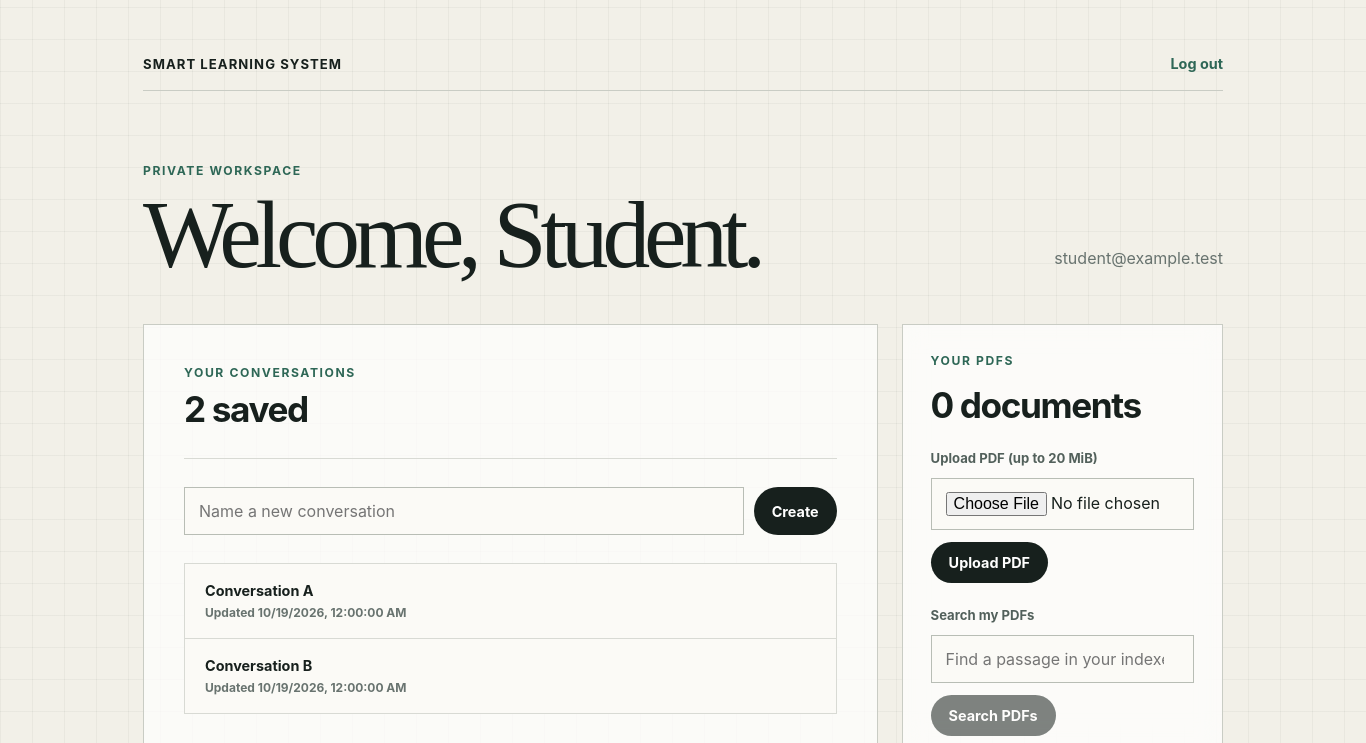
Test case: a terminal model failure keeps the saved question out of the composer
The width and height of the screenshot is (1366, 743).
Click the button "Conversation A Updated 10/19/2026, 12:00:00 AM".
click(259, 591)  # box x1=185 y1=564 x2=836 y2=638
(page scrolled)
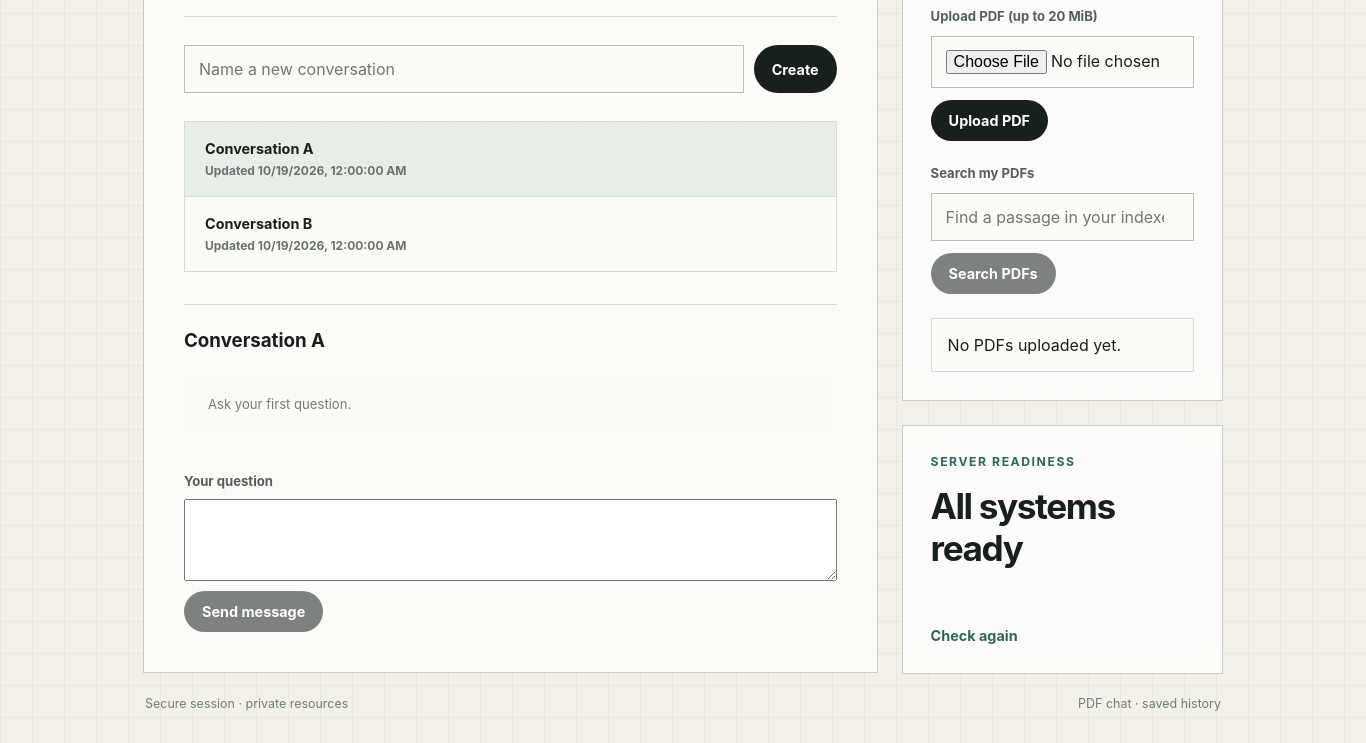
Now the heading "Conversation A" is shown, box x1=184 y1=329 x2=325 y2=352
Type "Saved question" into the text box labelled "Your question".
click(510, 540); type("Saved question")  # box x1=184 y1=499 x2=837 y2=581
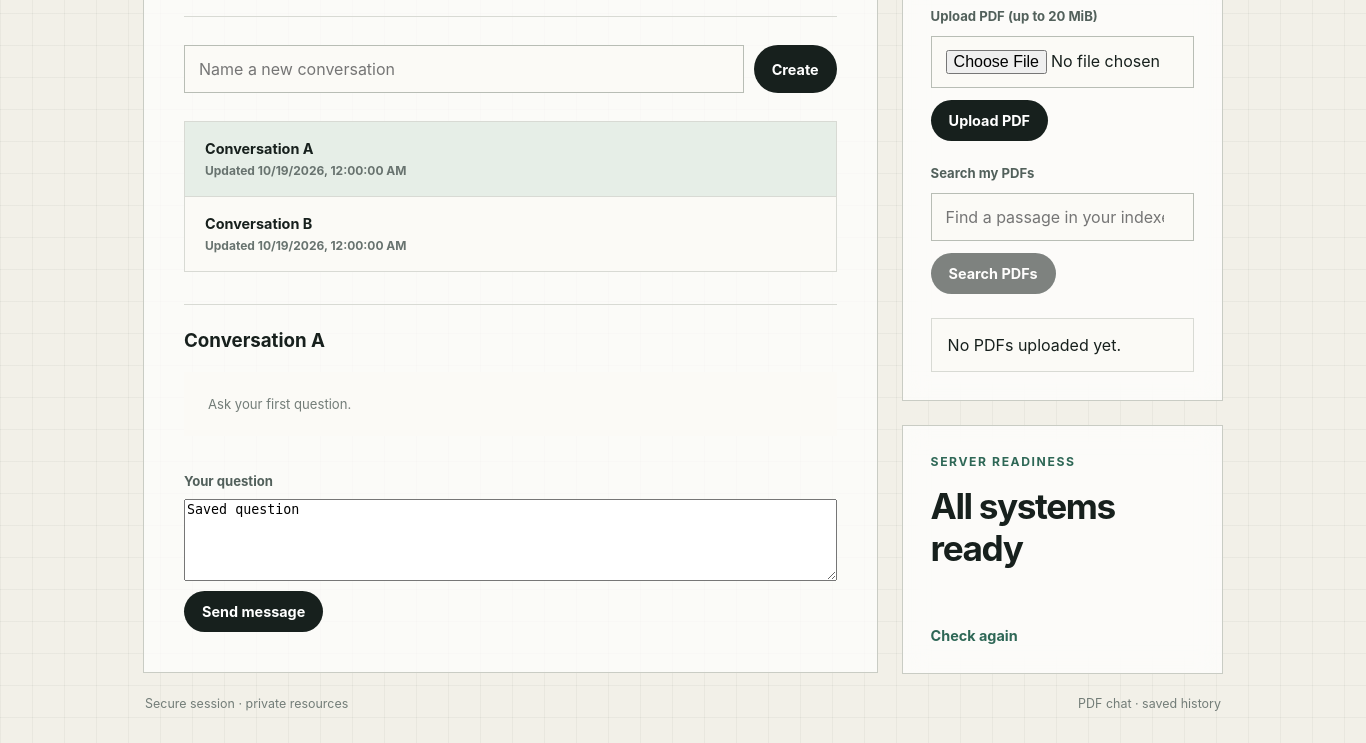
Click the button "Send message".
click(254, 612)  # box x1=184 y1=591 x2=323 y2=632
(page scrolled)
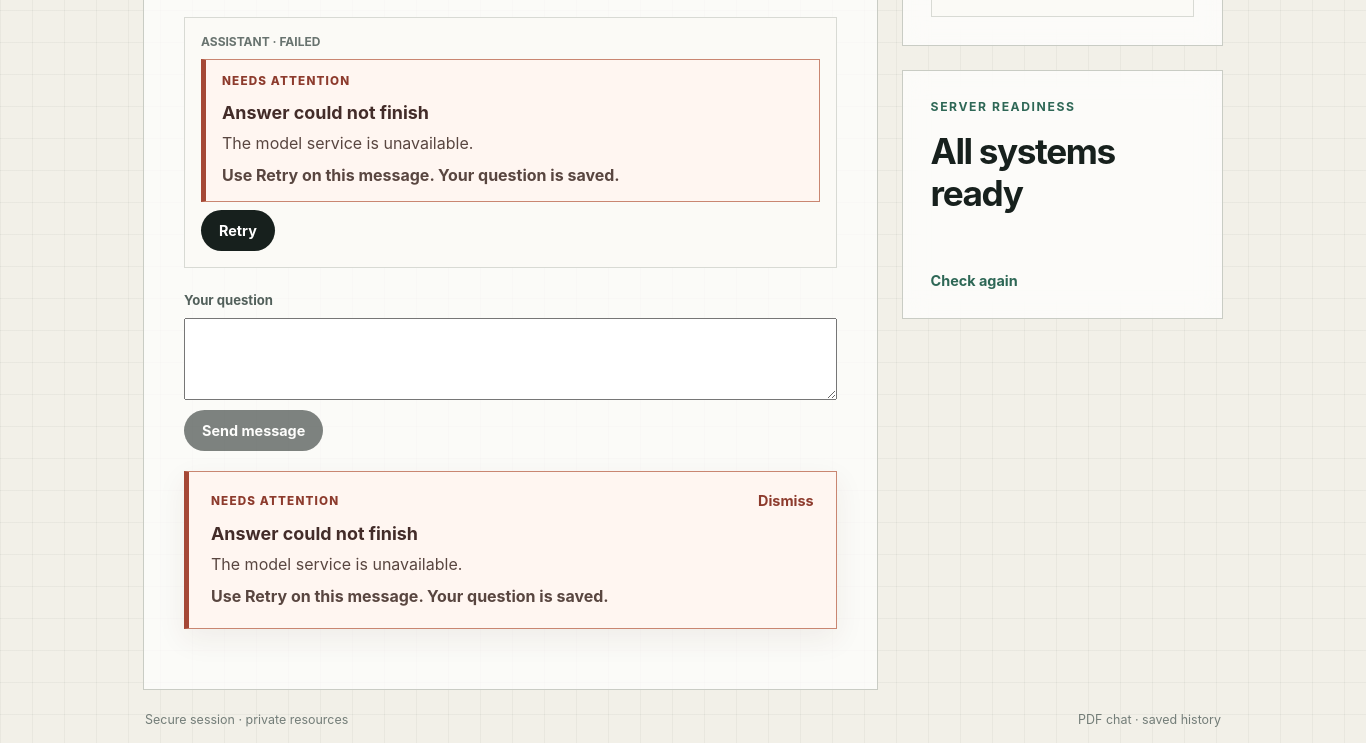
Now the button "Retry" is shown, box x1=201 y1=210 x2=275 y2=251
Now the text box labelled "Your question" is empty, box x1=184 y1=318 x2=837 y2=400
